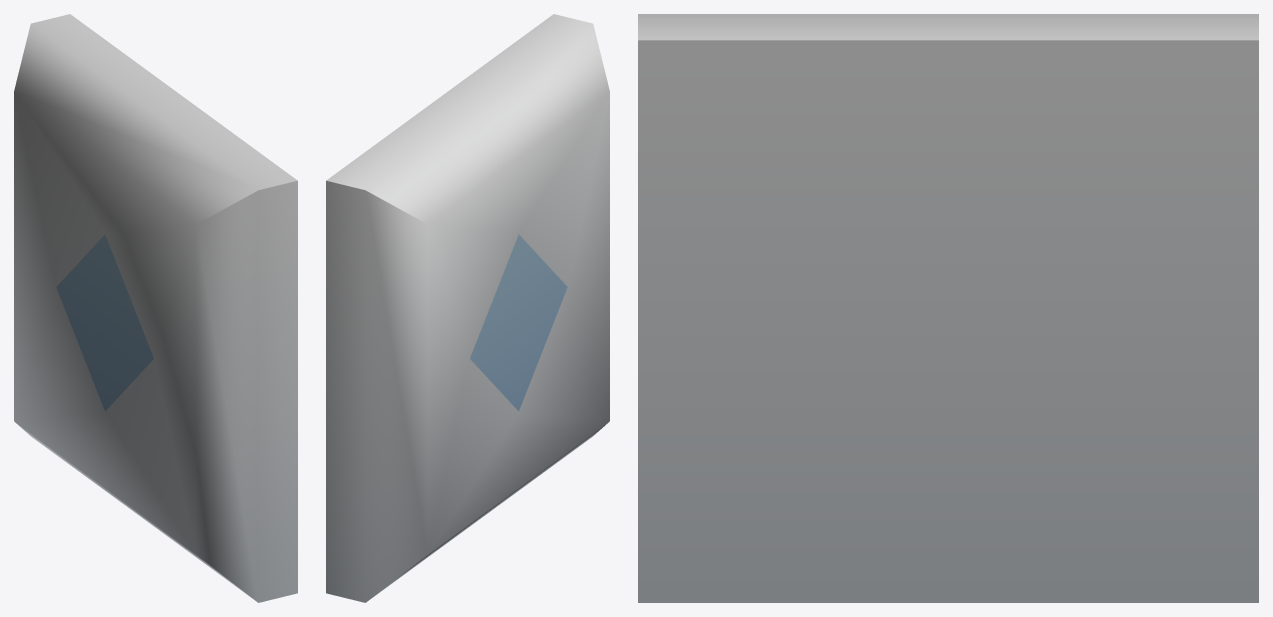
File: wall-tile-diamond (%wall).glb
3 renders of one model, left to right at view 1: azimuth 30°, elevation 25°; view 2: azimuth 150°, elevation 25°; view 3: azimuth 270°, elevation 25°, orthographic. The views are drawn at different scales.
Parts seen in each view (by area): view 1: wall-tile-diamond (%wall); view 2: wall-tile-diamond (%wall); view 3: wall-tile-diamond (%wall).
Part boxes in pixels (x1,y1,x2,y2): wall-tile-diamond (%wall): [14, 14, 297, 602]; wall-tile-diamond (%wall): [326, 14, 609, 602]; wall-tile-diamond (%wall): [638, 14, 1258, 602].
Size of the model in its own units: 0.05 by 0.25 by 0.25.
